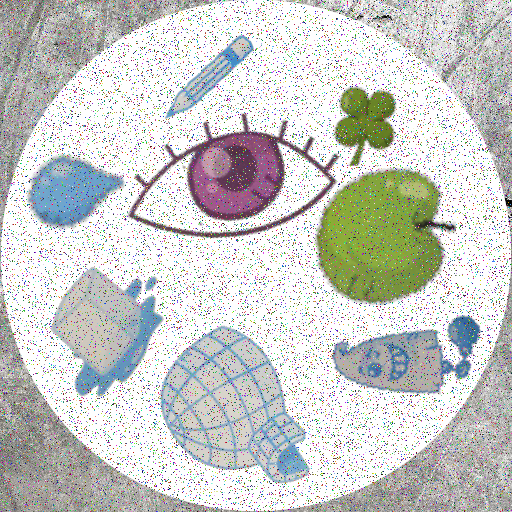apple_icon: (302, 153, 456, 307)
cloverleaf_icon: (315, 79, 402, 166)
cube_icon: (22, 247, 175, 400)
eye_icon: (124, 77, 340, 293)
ghost_icon: (328, 277, 485, 434)
igloo_icon: (153, 323, 336, 506)
pen_icon: (159, 28, 258, 127)
raindrop_icon: (26, 142, 125, 241)
